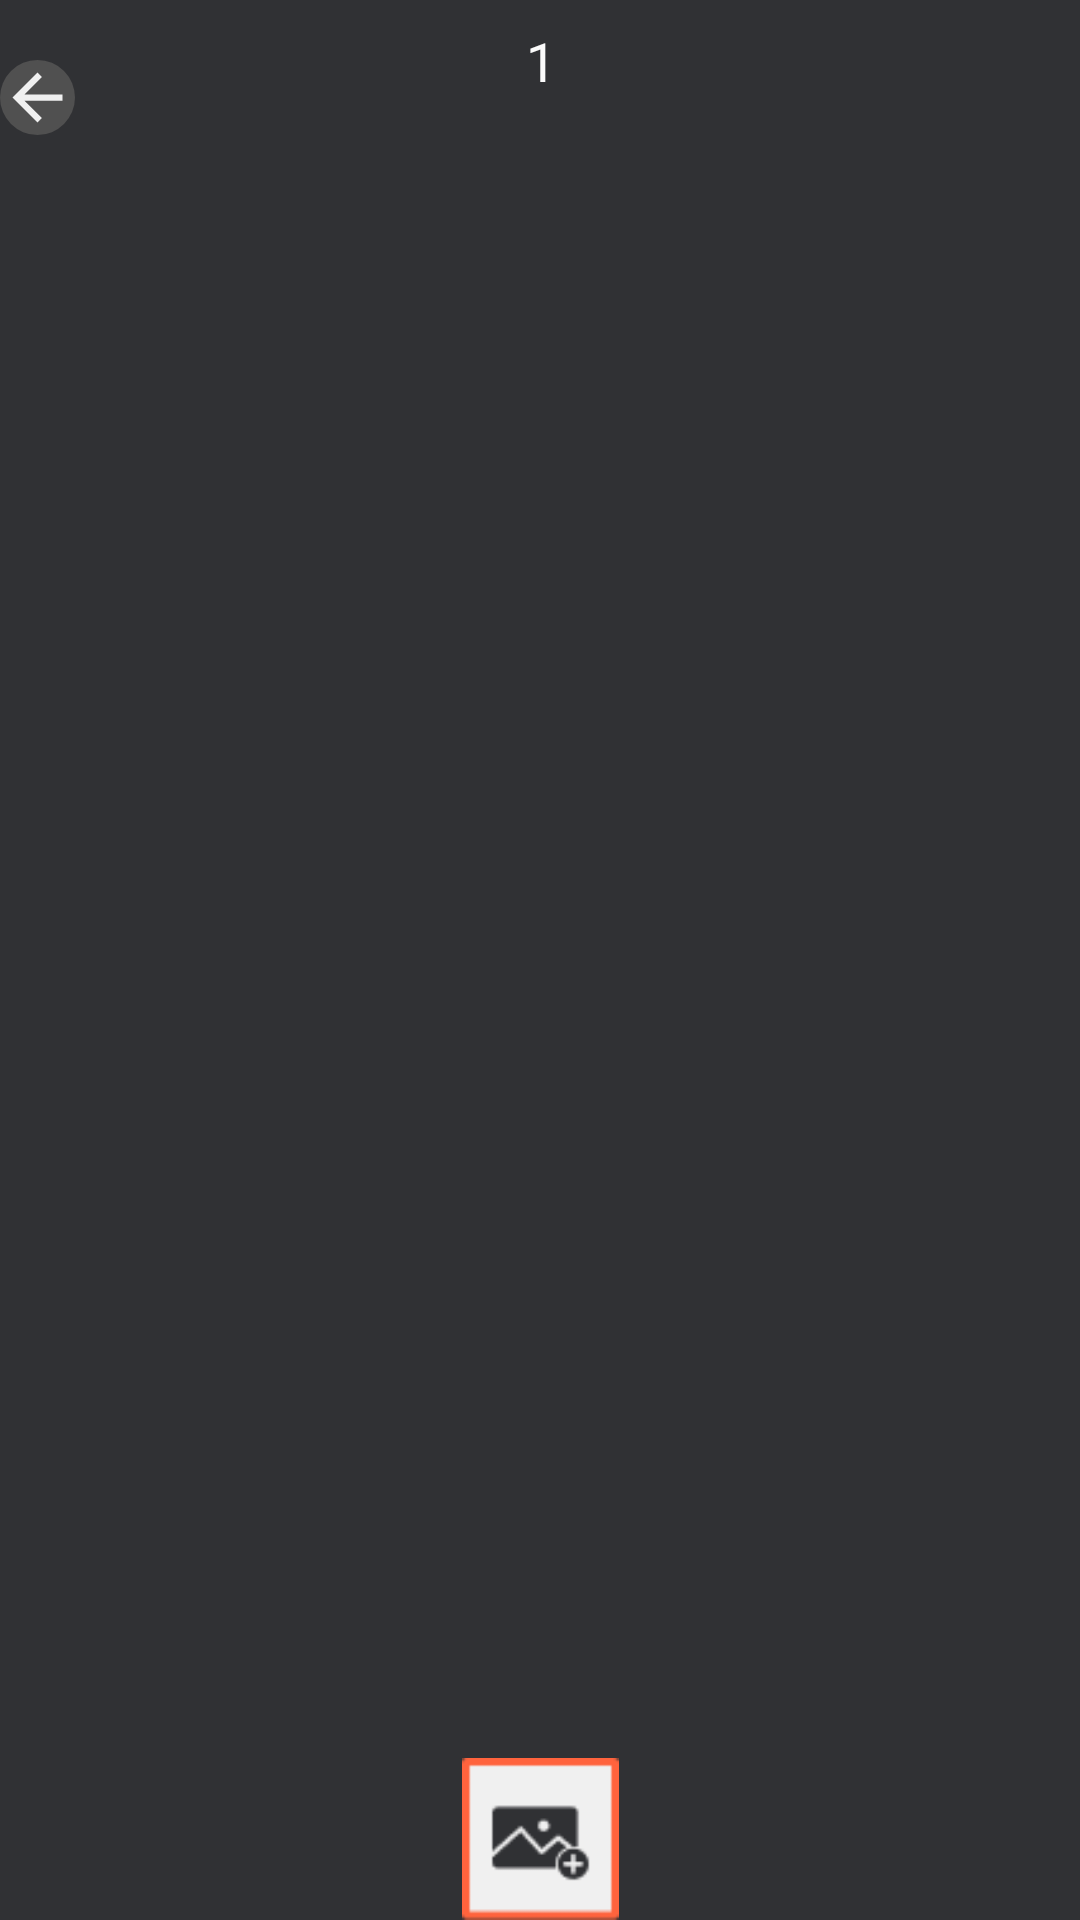

Where to tap for icons on this 1080 x 1920 app screen, as point (x, y):
arrow back: point (37, 97)
select: point (540, 1839)
